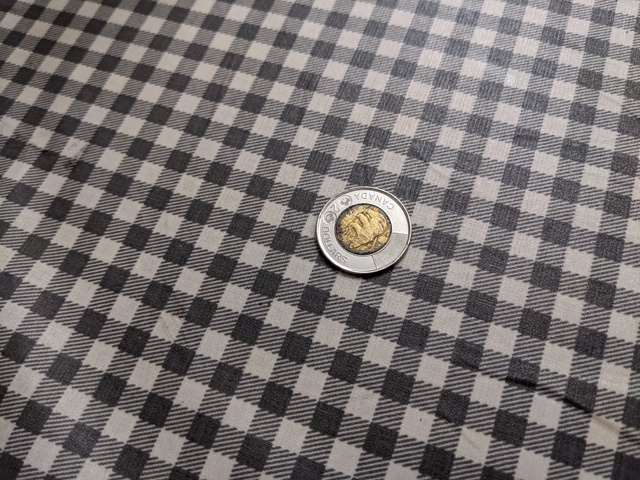twonie: (304, 183, 430, 293)
